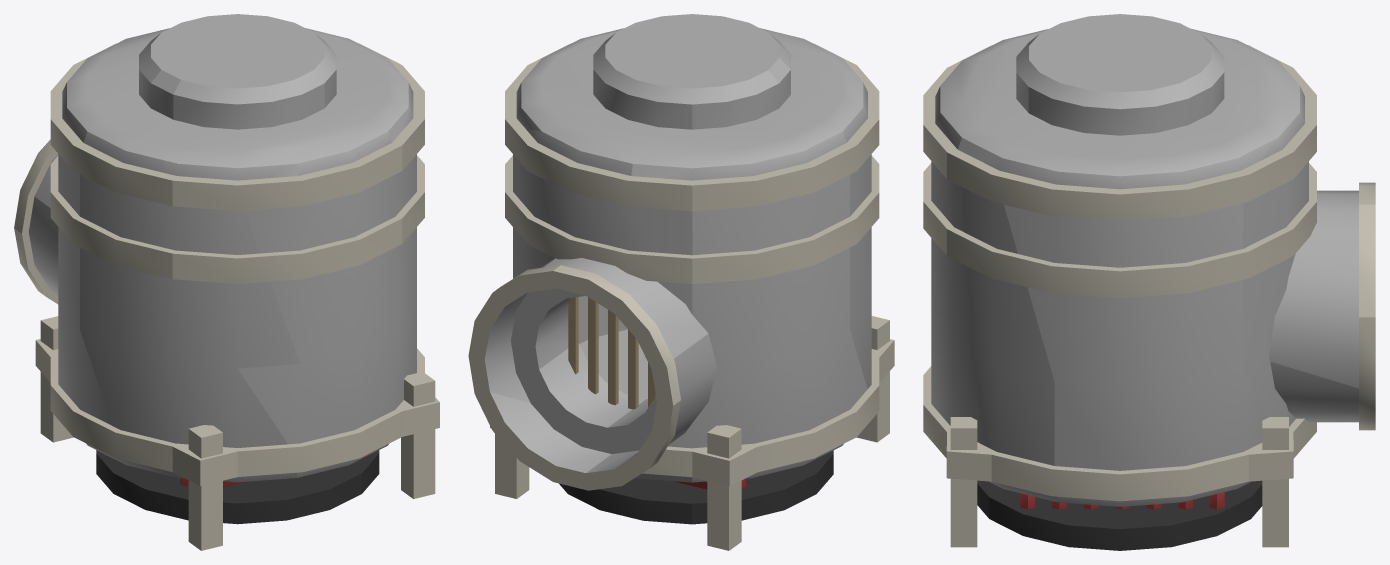
The model's file is WhiteMetalMechLargeBoiler1.fbx.
3 views of the same model, side by side, from view 1: azimuth 30°, elevation 25°; view 2: azimuth 150°, elevation 25°; view 3: azimuth 270°, elevation 25° (orthographic). The views are drawn at different scales.
Parts seen in each view (by area): view 1: Body; view 2: Body; view 3: Body, HeatingElement.
Boxes of the visible parts, bbox=[...] form: Body: bbox=[14, 14, 439, 550]; Body: bbox=[468, 14, 894, 550]; Body: bbox=[923, 14, 1375, 550]; HeatingElement: bbox=[1020, 492, 1224, 509].
Size of the model in its own units: 667 by 799 by 755.
